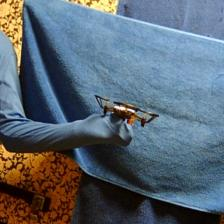drone: (94, 90, 160, 129)
